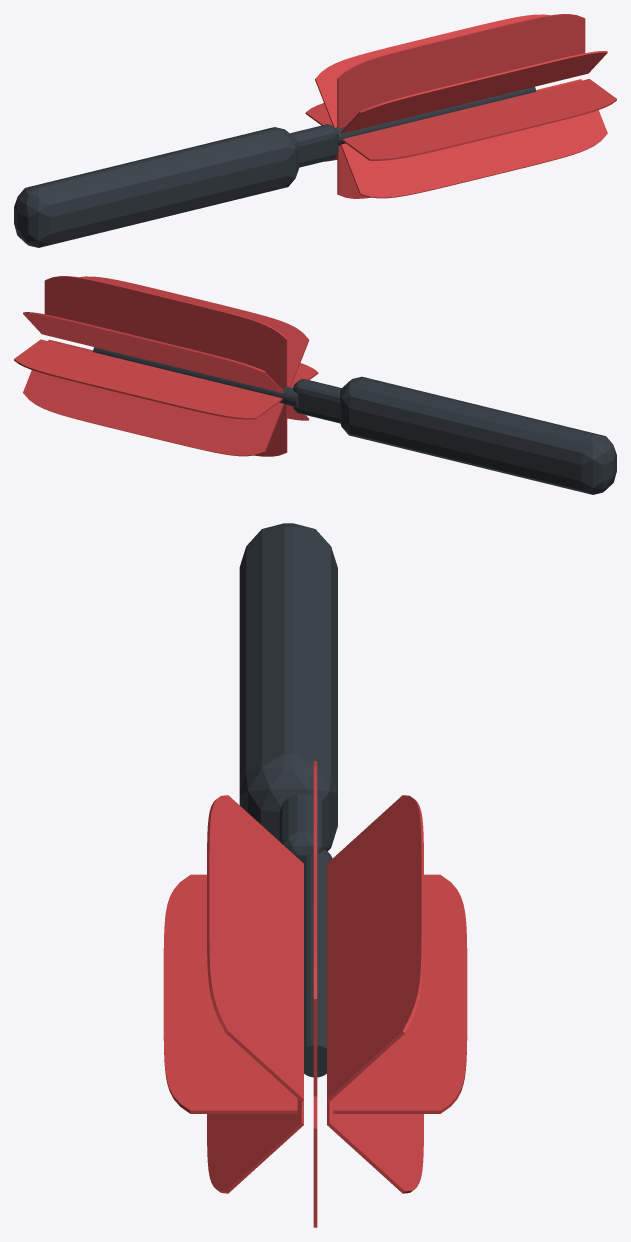
3 views of the same model, one above another, from view 1: azimuth 30°, elevation 25°; view 2: azimuth 150°, elevation 25°; view 3: azimuth 270°, elevation 25° (orthographic). The views are drawn at different scales.
Parts seen in each view (by area): view 1: geometry_0; view 2: geometry_0; view 3: geometry_0.
Part boxes in pixels (left/top/right/bottom): geometry_0: left=14, top=14, right=616, bottom=247; geometry_0: left=14, top=276, right=616, bottom=494; geometry_0: left=163, top=523, right=467, bottom=1227.
Bounding box in the file's own units: 0.29 × 0.068 × 0.068.
Materials: 1 (1 with a texture image).
